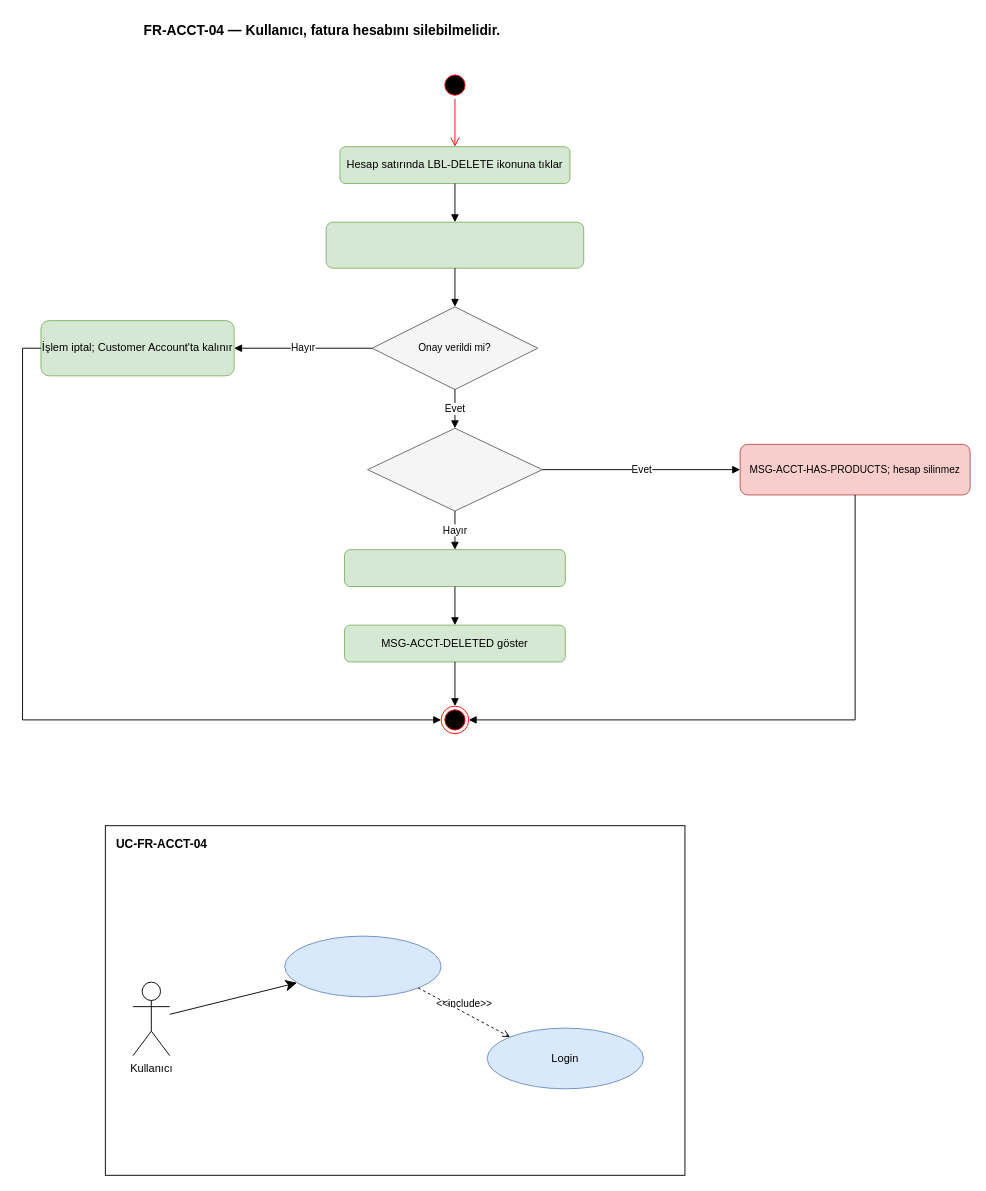
Some shapes in this 986 by 1191 pixel diagram are drawn without their labels. Each missing label, with the centre of its shape:
"Fatura Hesabı Sil" goes at (x=362, y=966).
"Hesaba bağlı aktif ürün var mı?" goes at (x=454, y=469).
"Hesap statüsünü pasife çek" goes at (x=454, y=567).
"MSG-ACCT-DELETE-CONFIRM onay penceresi (LBL-YES / LBL-NO)" goes at (x=454, y=244).
